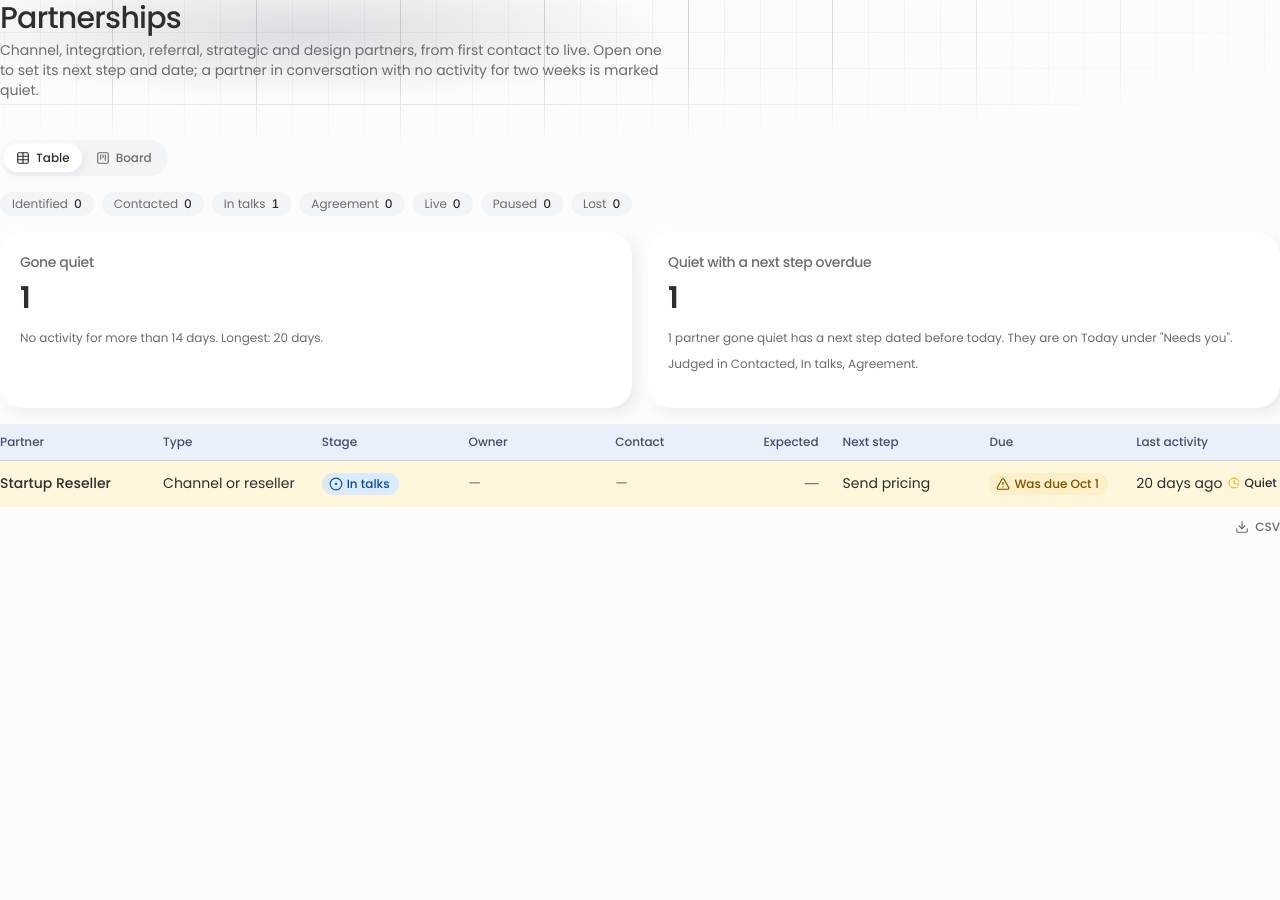
Test case: the partnerships page › the table view, with its CSV, marks the overdue step and opens the editor from a name
Expected: the text "Was due Oct 1" is shown, [989,473,1108,495]
Click the button "Startup Reseller" at {"x": 56, "y": 483}, box [0,473,111,493]
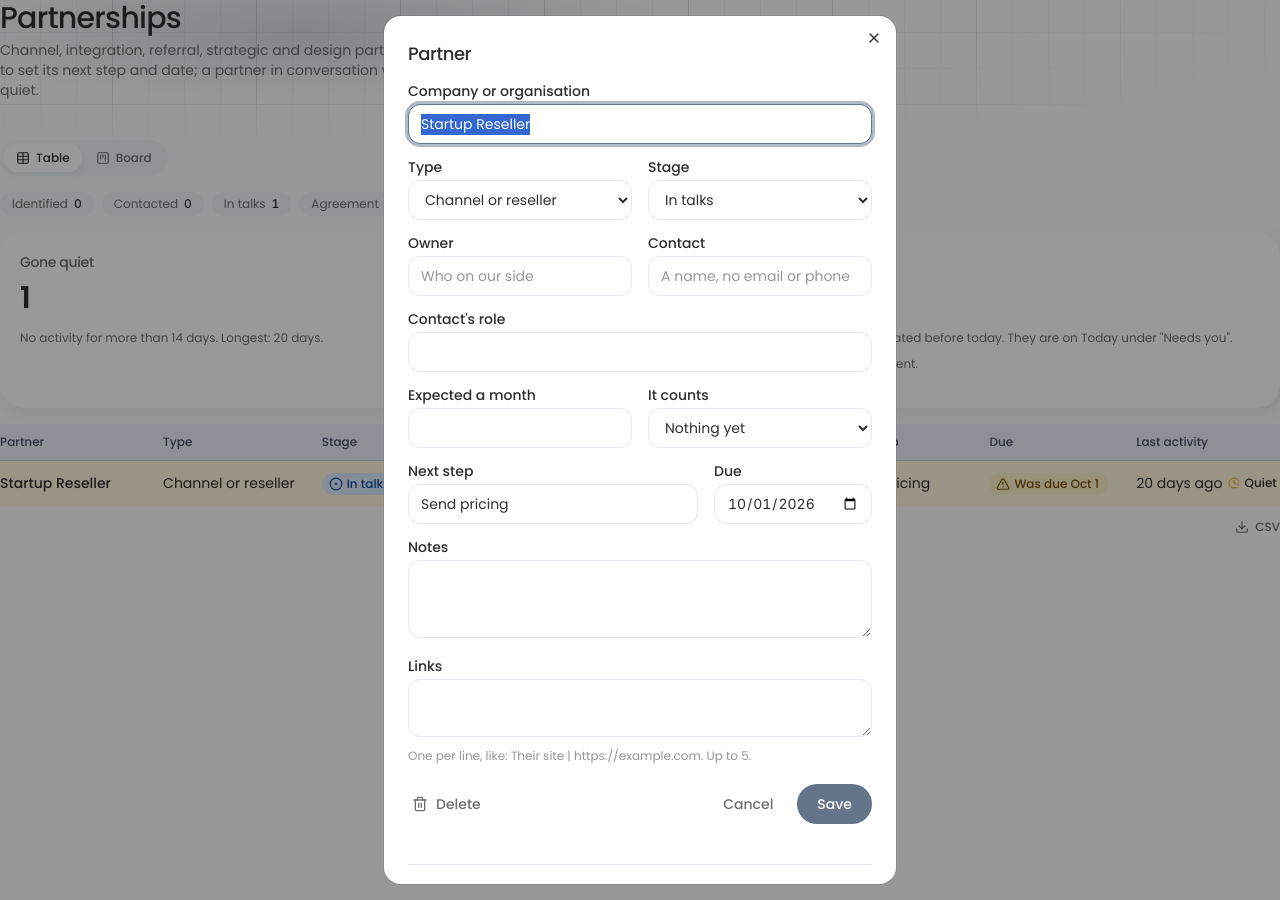
Now the field labelled "Next step" holds "Send pricing", box [408,484,698,524]
